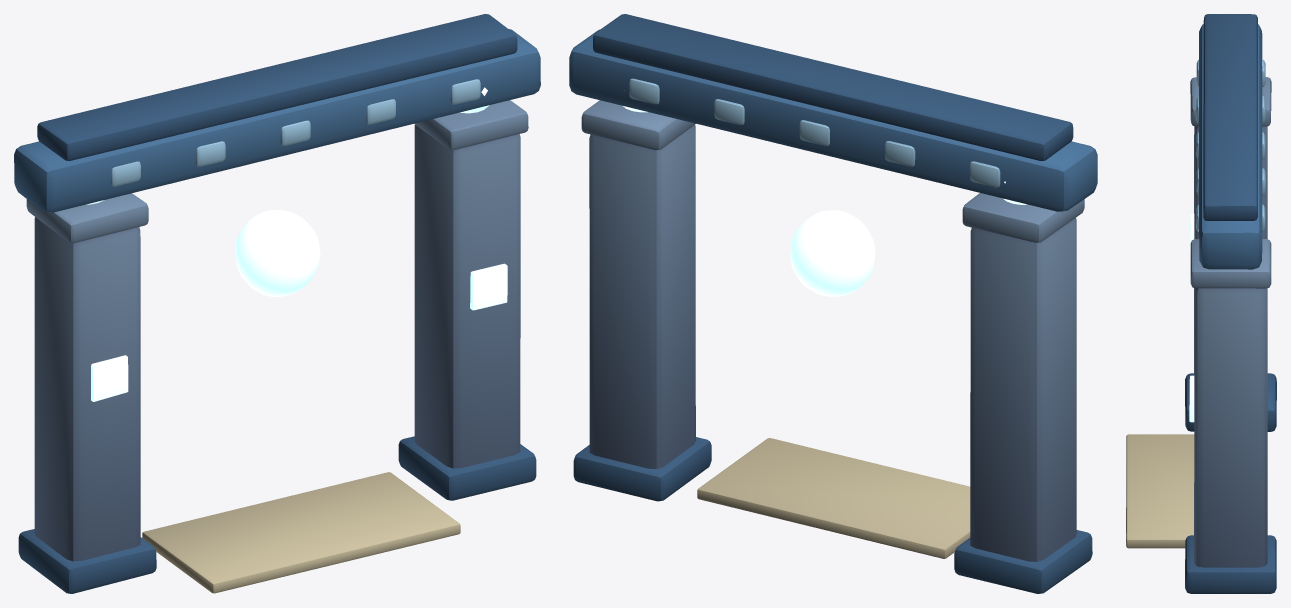
The picture shows the model from 3 angles, left to right: view 1: azimuth 30°, elevation 25°; view 2: azimuth 150°, elevation 25°; view 3: azimuth 270°, elevation 25°; orthographic projection. The views are drawn at different scales.
Parts seen in each view (by area): view 1: gate_af40c23c; view 2: gate_af40c23c; view 3: gate_af40c23c.
Part boxes in pixels (x1,y1,x2,y2): gate_af40c23c: (14,14,540,593); gate_af40c23c: (569,14,1097,593); gate_af40c23c: (1126,14,1276,593).
Size of the model in its own units: 4.82 by 4.09 by 1.44.
